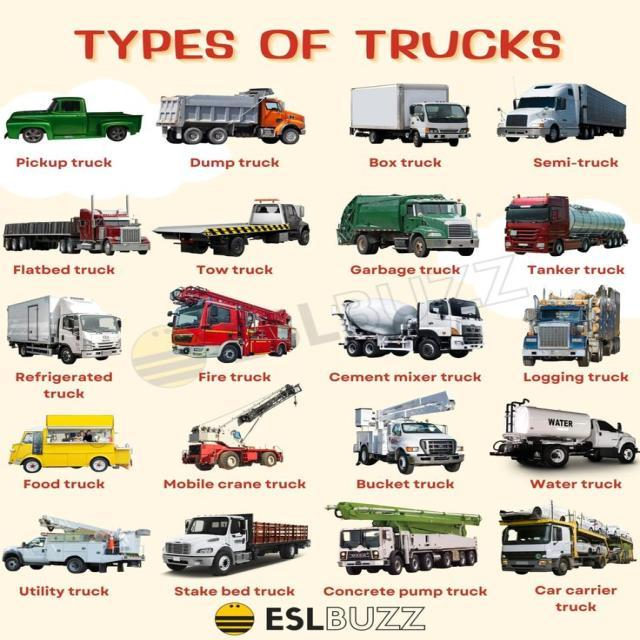person: (3, 95, 142, 144)
traffic light: (165, 284, 298, 363), (488, 398, 636, 468), (498, 502, 635, 576), (331, 294, 484, 359), (161, 512, 310, 576), (352, 390, 464, 474), (151, 197, 310, 256), (336, 192, 480, 257), (2, 193, 150, 256), (1, 514, 150, 574), (156, 86, 306, 144), (521, 284, 621, 367), (5, 294, 122, 364), (348, 82, 470, 147), (496, 81, 626, 142), (503, 193, 628, 256), (8, 414, 132, 472)
